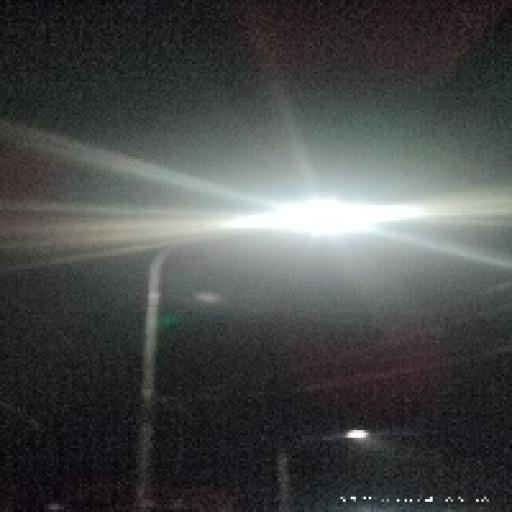Working: (217, 177, 430, 259)
